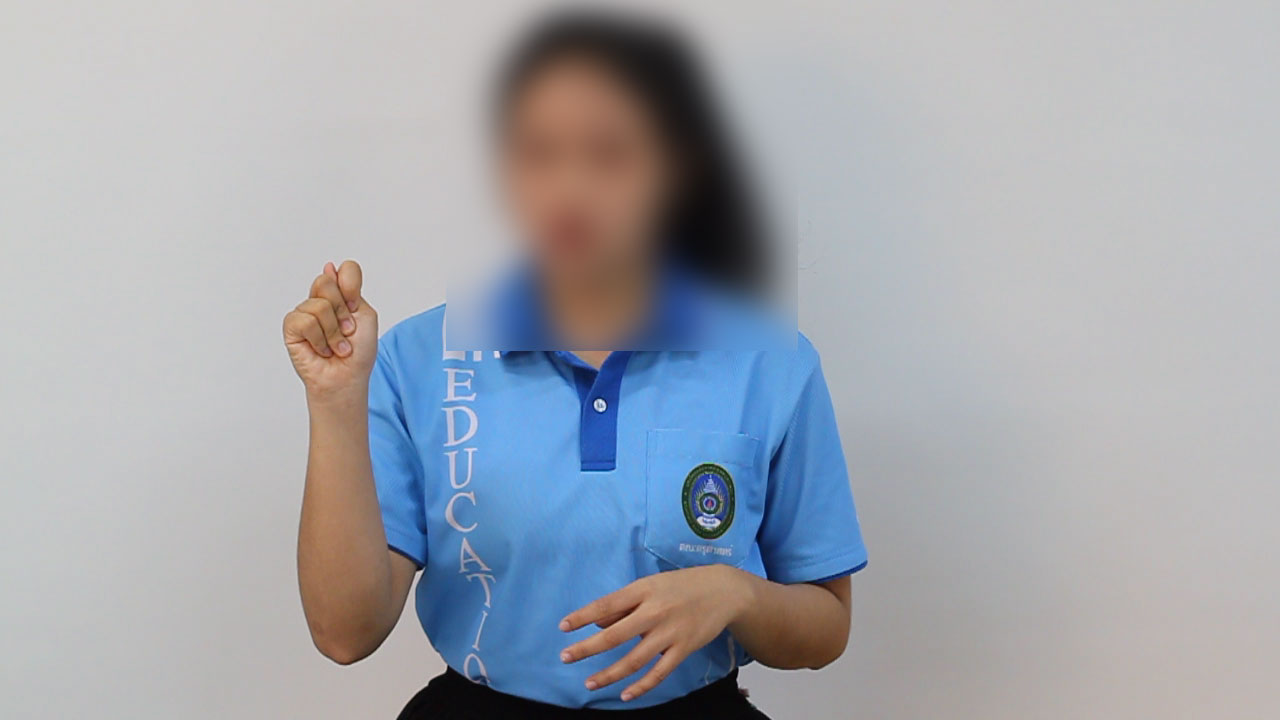tor: (247, 253, 401, 414)
